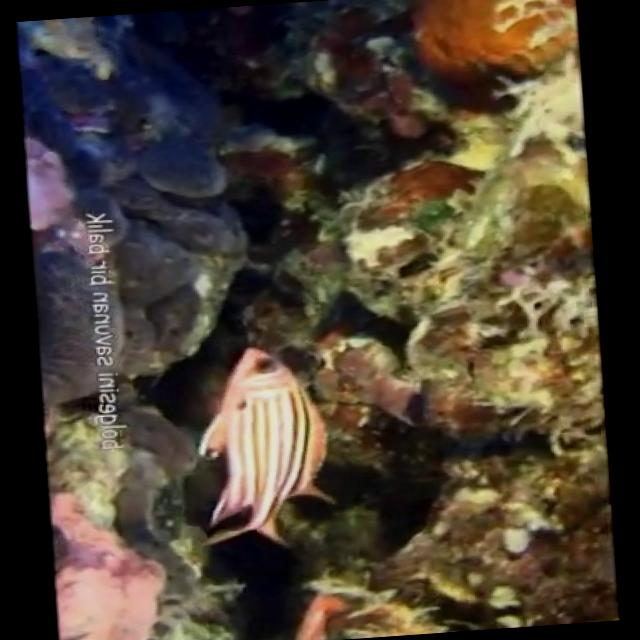Asker Baligi: (184, 340, 340, 552)
